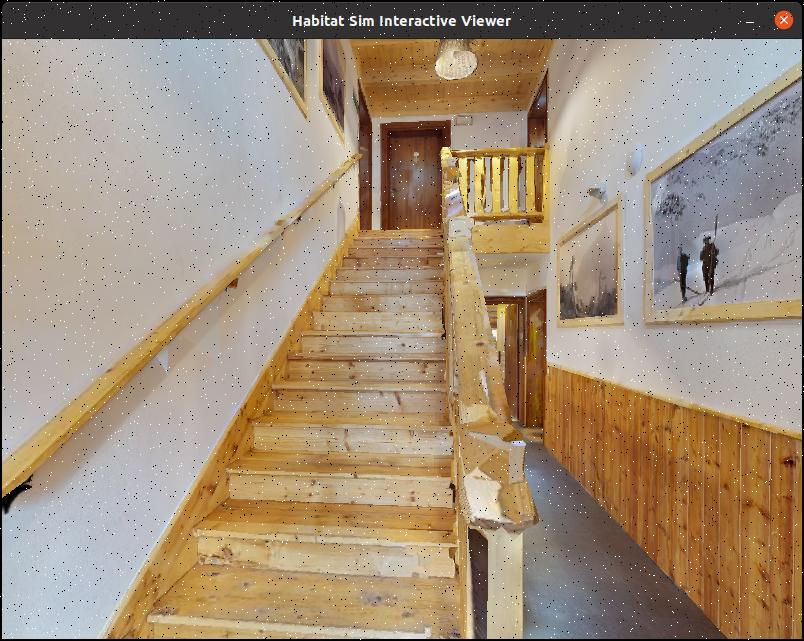stairs: (77, 111, 522, 641)
